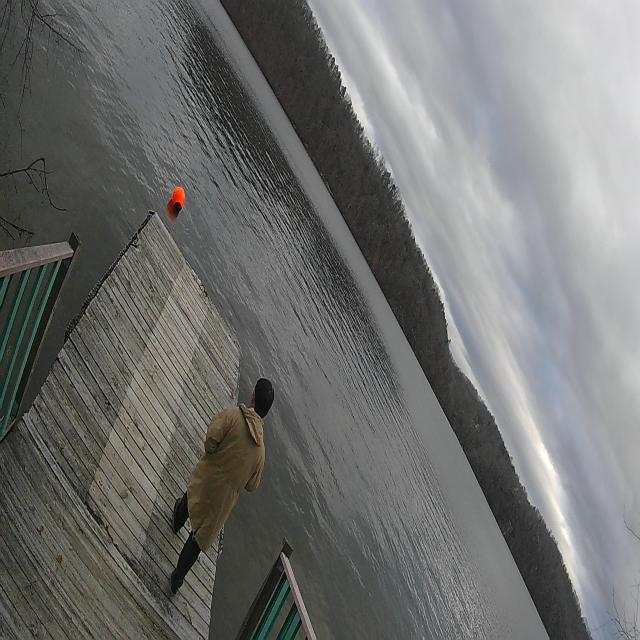Buoy: (169, 182, 188, 216)
